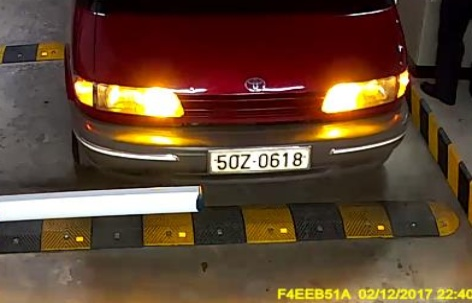plate: (208, 146, 309, 174)
